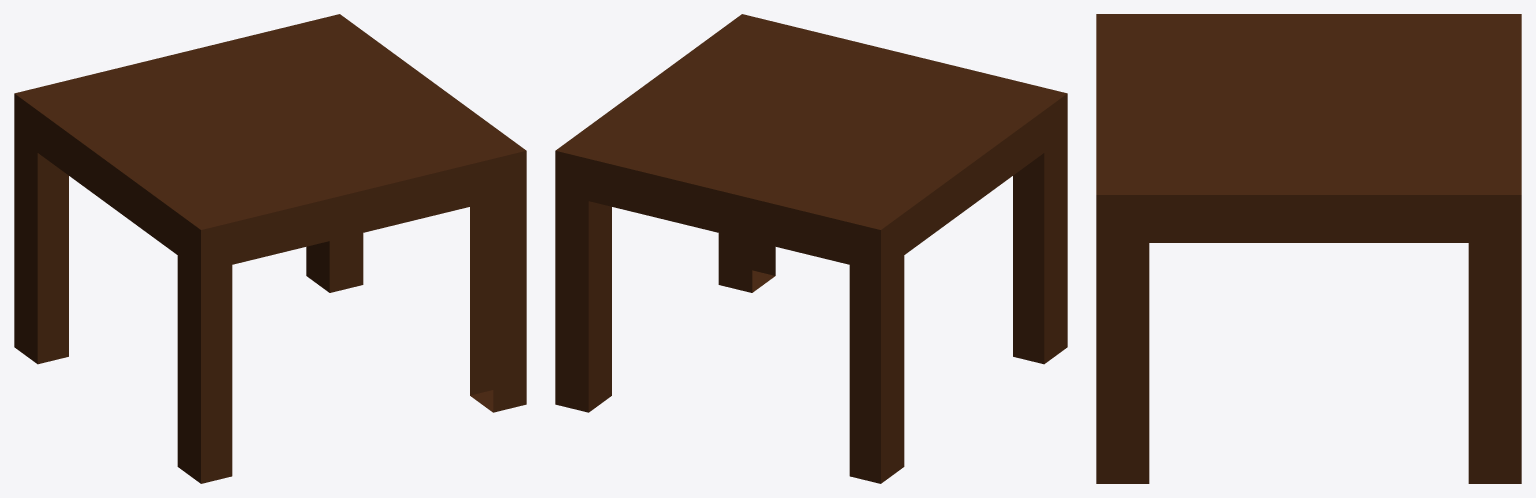
File: square_desk.fbx
3 renders of one model, left to right at view 1: azimuth 30°, elevation 25°; view 2: azimuth 150°, elevation 25°; view 3: azimuth 270°, elevation 25°, orthographic. The views are drawn at different scales.
Visible parts, largest first — view 1: Cube; view 2: Cube; view 3: Cube.
Boxes of the visible parts, left/top/right/bottom form: Cube: left=14, top=14, right=526, bottom=483; Cube: left=555, top=14, right=1067, bottom=483; Cube: left=1096, top=14, right=1521, bottom=483.
Bounding box in the file's own units: 138 × 103 × 137.
